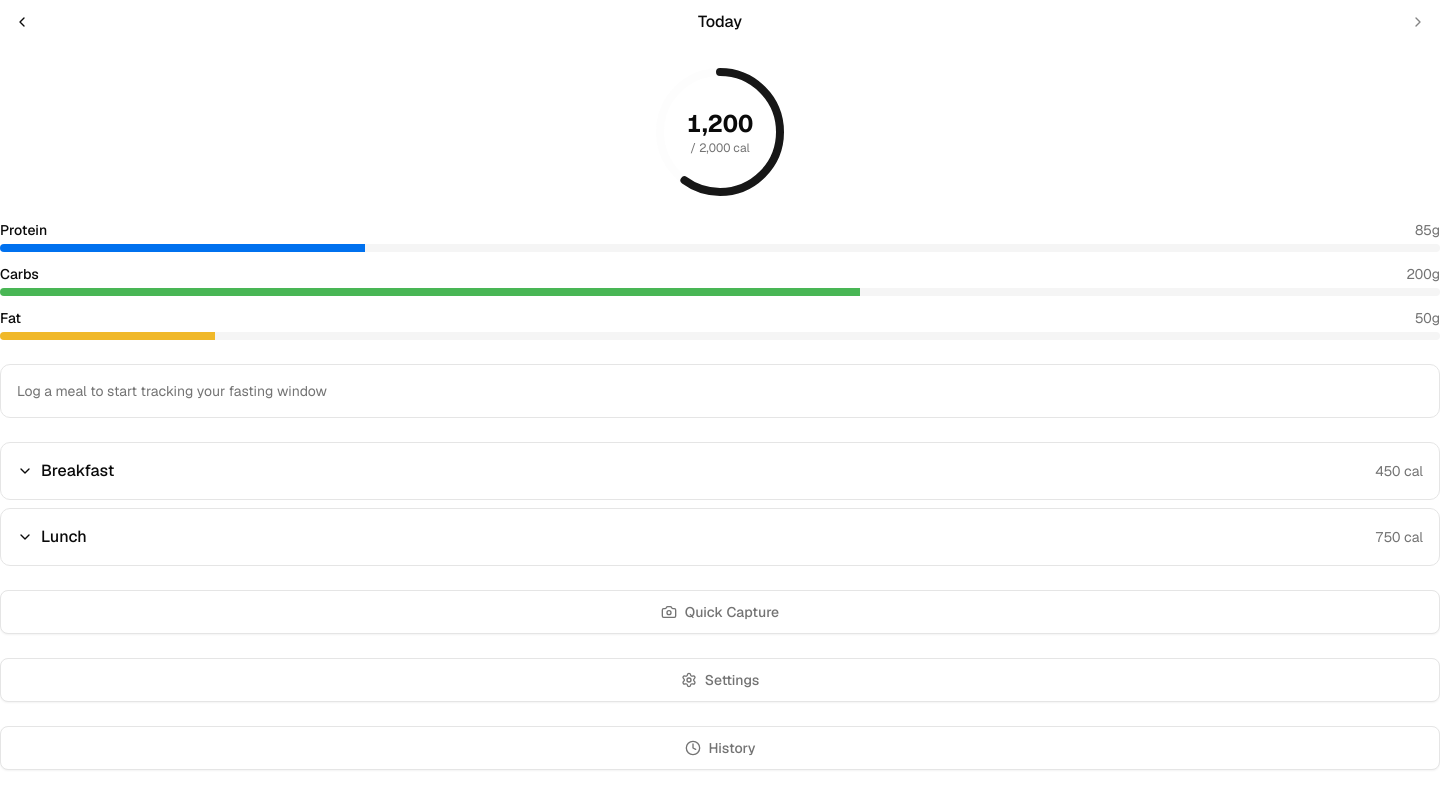
Test case: DailyDashboard › entry interactions (FOO-749) › shows delete error when delete API fails
Expected: the text "Breakfast" is shown, [41,459,114,483]
Click the button with test id "meal-header-1": coordinates (78, 470) [1,443,1439,499]
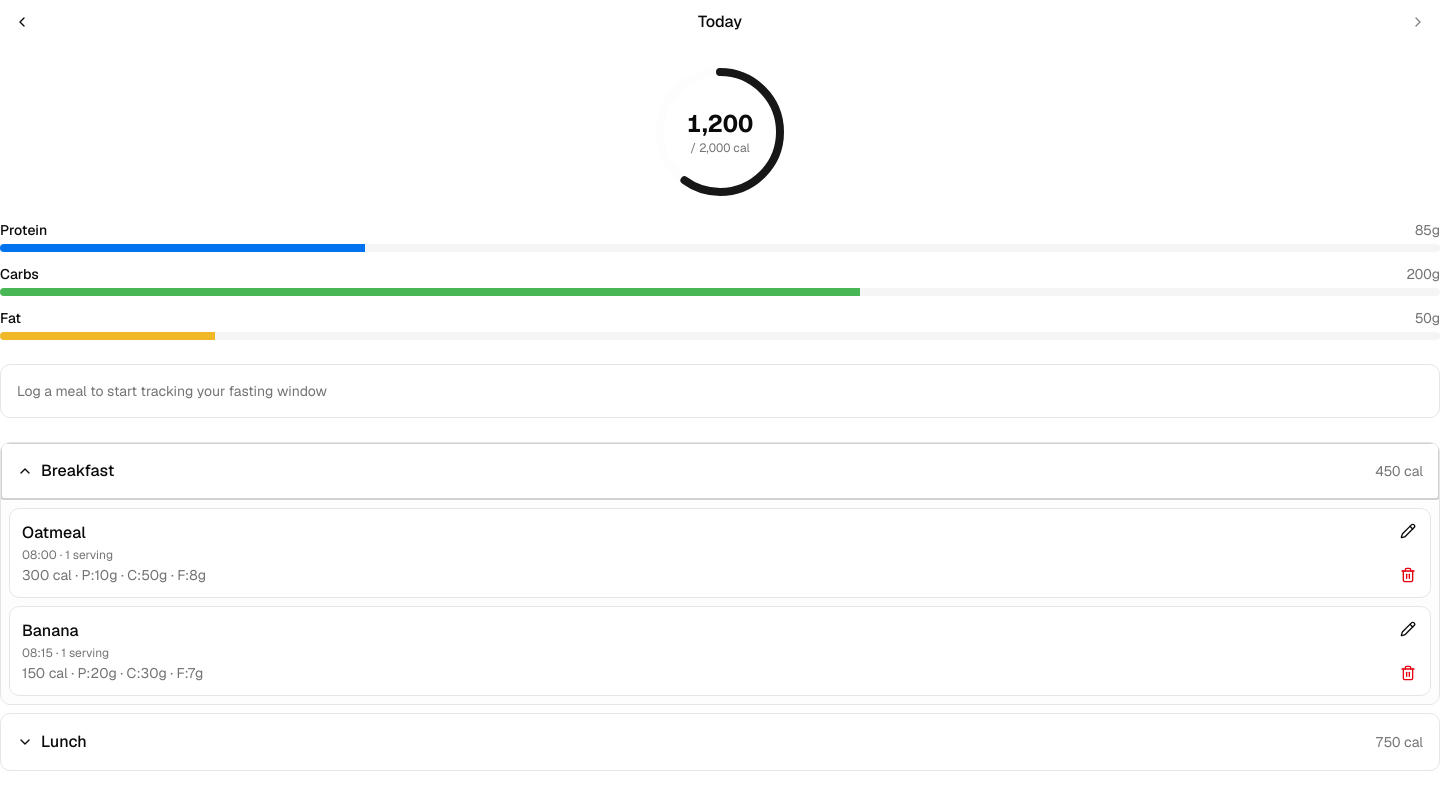
Click the button named "Delete Oatmeal": coordinates (1408, 575) [1386,553,1430,597]
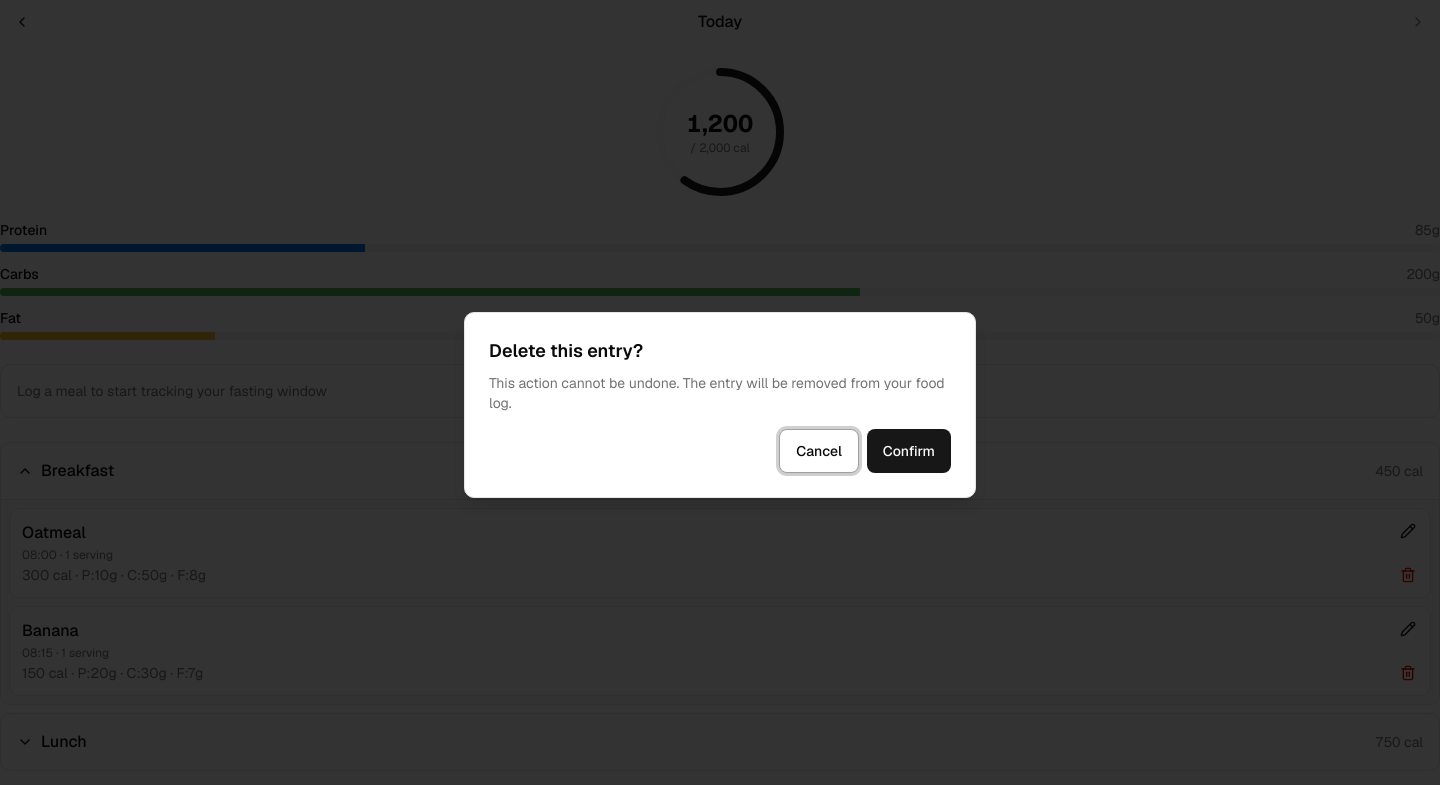
Click the button "Confirm": coordinates (909, 451) [867,429,951,473]
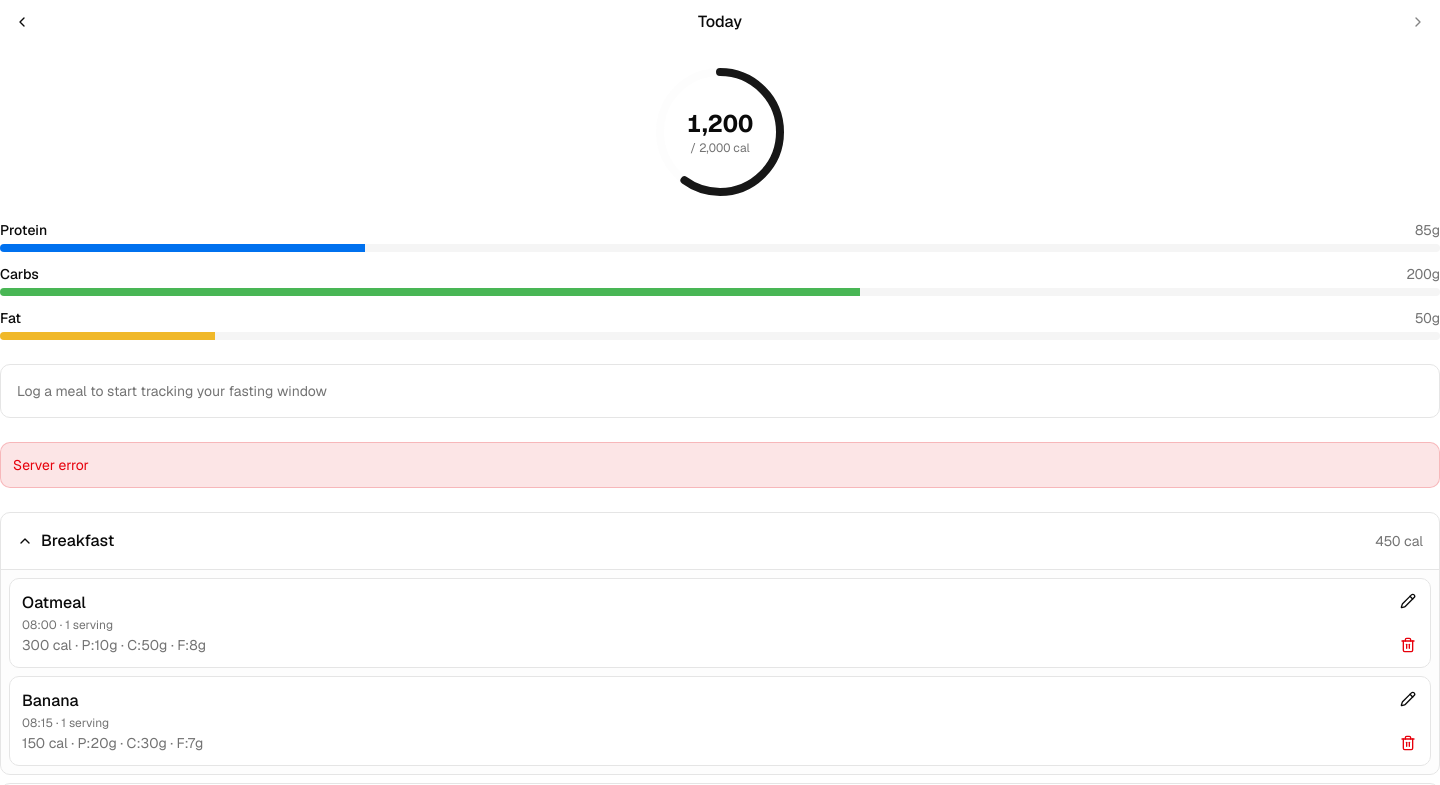
Now the text "Server error" is shown, box [13,456,89,474]
